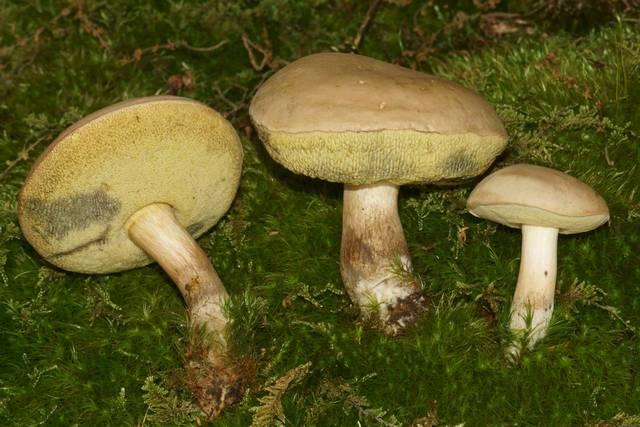edible_mushroom: (16, 93, 250, 421), (247, 50, 509, 335), (465, 161, 610, 366)
